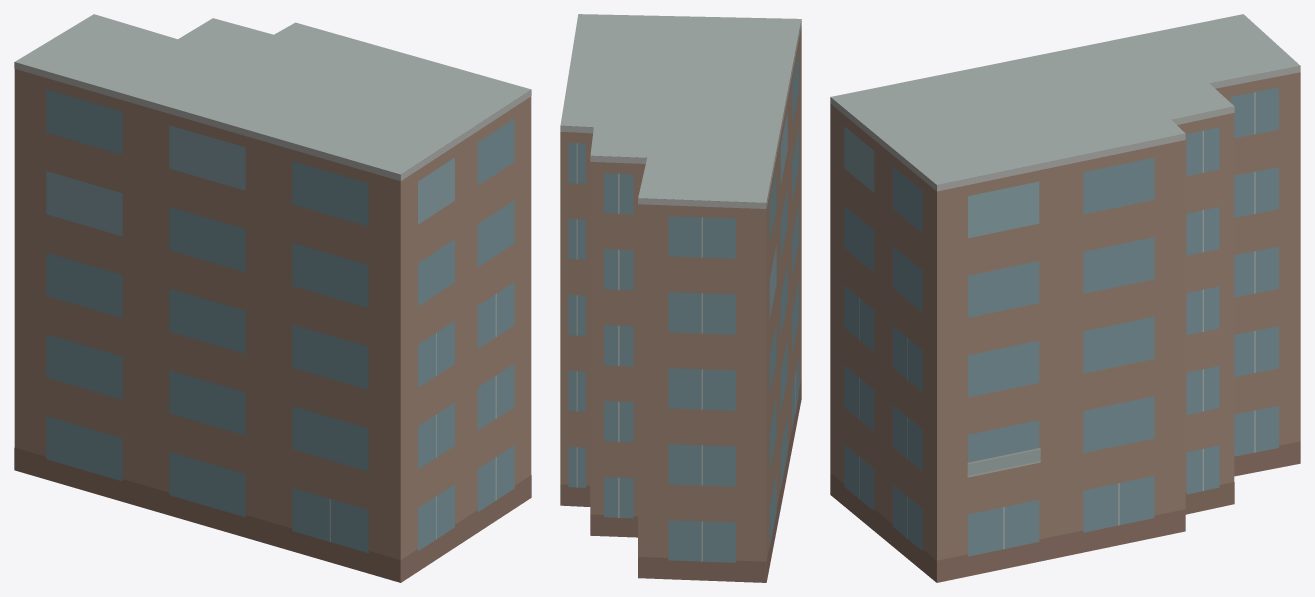
Rendered from survey-upis-32739711.glb.
The picture shows the model from 3 angles, left to right: view 1: azimuth 30°, elevation 25°; view 2: azimuth 150°, elevation 25°; view 3: azimuth 270°, elevation 25°; orthographic projection. The views are drawn at different scales.
Parts seen in each view (by area): view 1: survey-upis-32739711.tmp; view 2: survey-upis-32739711.tmp; view 3: survey-upis-32739711.tmp.
Boxes of the visible parts, <box> form: survey-upis-32739711.tmp: <box>14,14,531,582</box>; survey-upis-32739711.tmp: <box>560,14,801,582</box>; survey-upis-32739711.tmp: <box>830,14,1300,582</box>.
Size of the model in its own units: 13.74 by 14.9 by 15.96.
